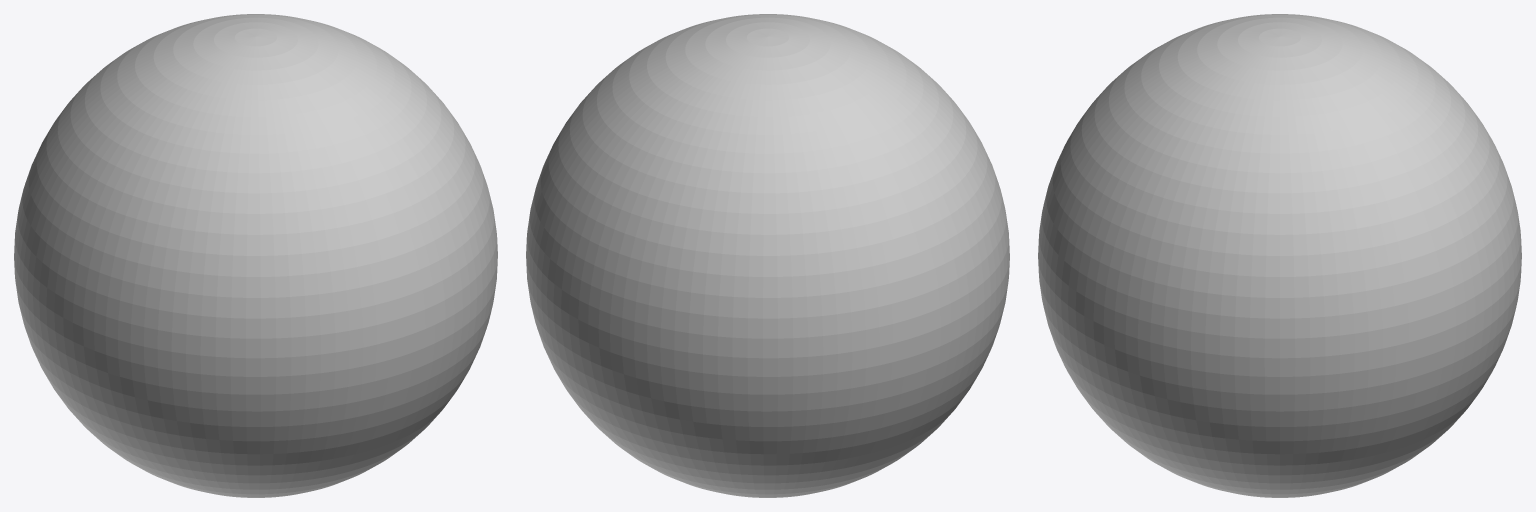
File: player.glb.gltf
3 renders of one model, left to right at view 1: azimuth 30°, elevation 25°; view 2: azimuth 150°, elevation 25°; view 3: azimuth 270°, elevation 25°, orthographic.
Visible parts, largest first — view 1: Сфера; view 2: Сфера; view 3: Сфера.
Boxes of the visible parts, x1,y1,x2,y2 form: Сфера: (14, 14, 497, 497); Сфера: (526, 14, 1009, 497); Сфера: (1038, 14, 1521, 497).
Bounding box in the file's own units: 2 × 2 × 2.
1 material, 1 textured.
